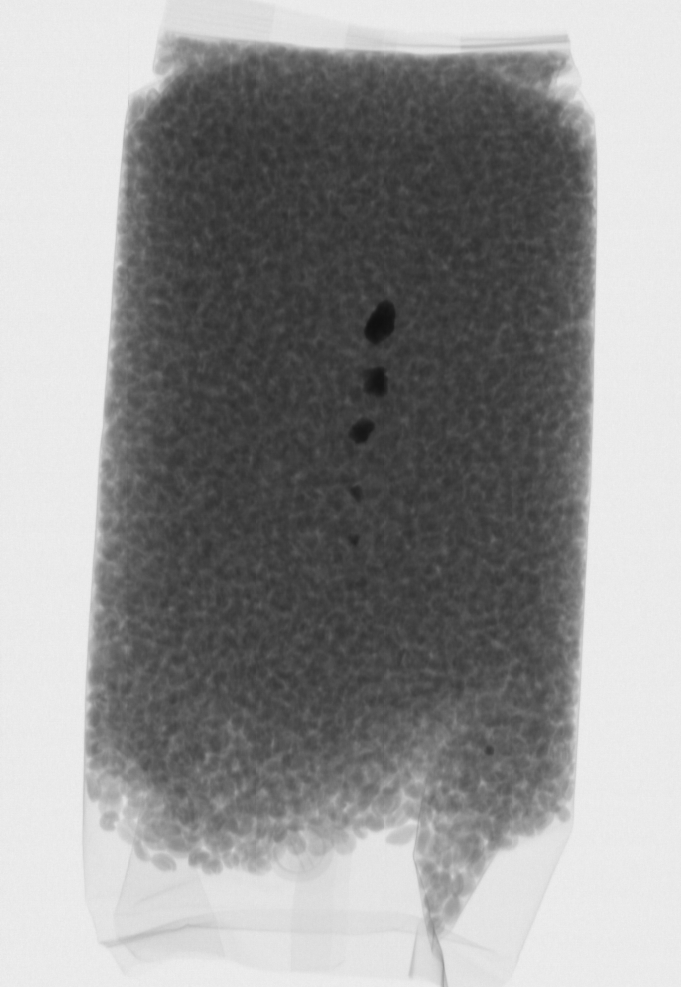stone: (362, 294, 398, 350), (363, 363, 391, 399), (346, 417, 379, 445), (346, 482, 371, 503), (344, 533, 365, 554)
stone_area: (328, 276, 413, 568)
